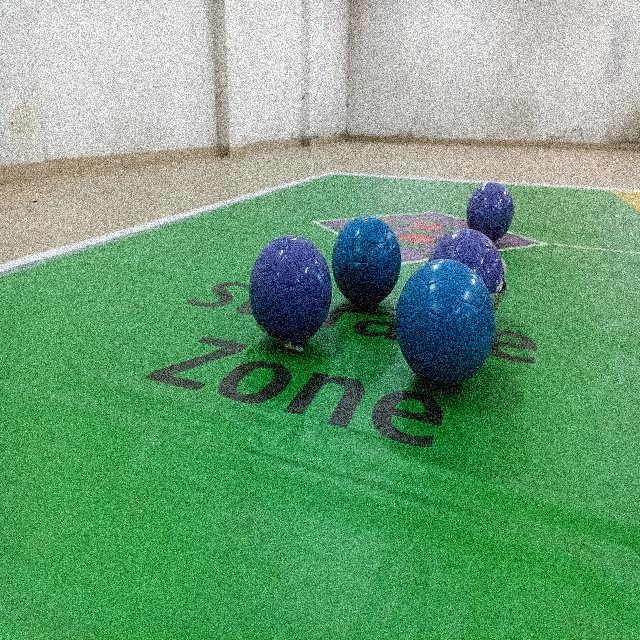blue_ball: (395, 265, 500, 395), (337, 209, 399, 320)
purple_ball: (245, 229, 334, 353), (428, 222, 507, 315), (466, 180, 520, 247)
